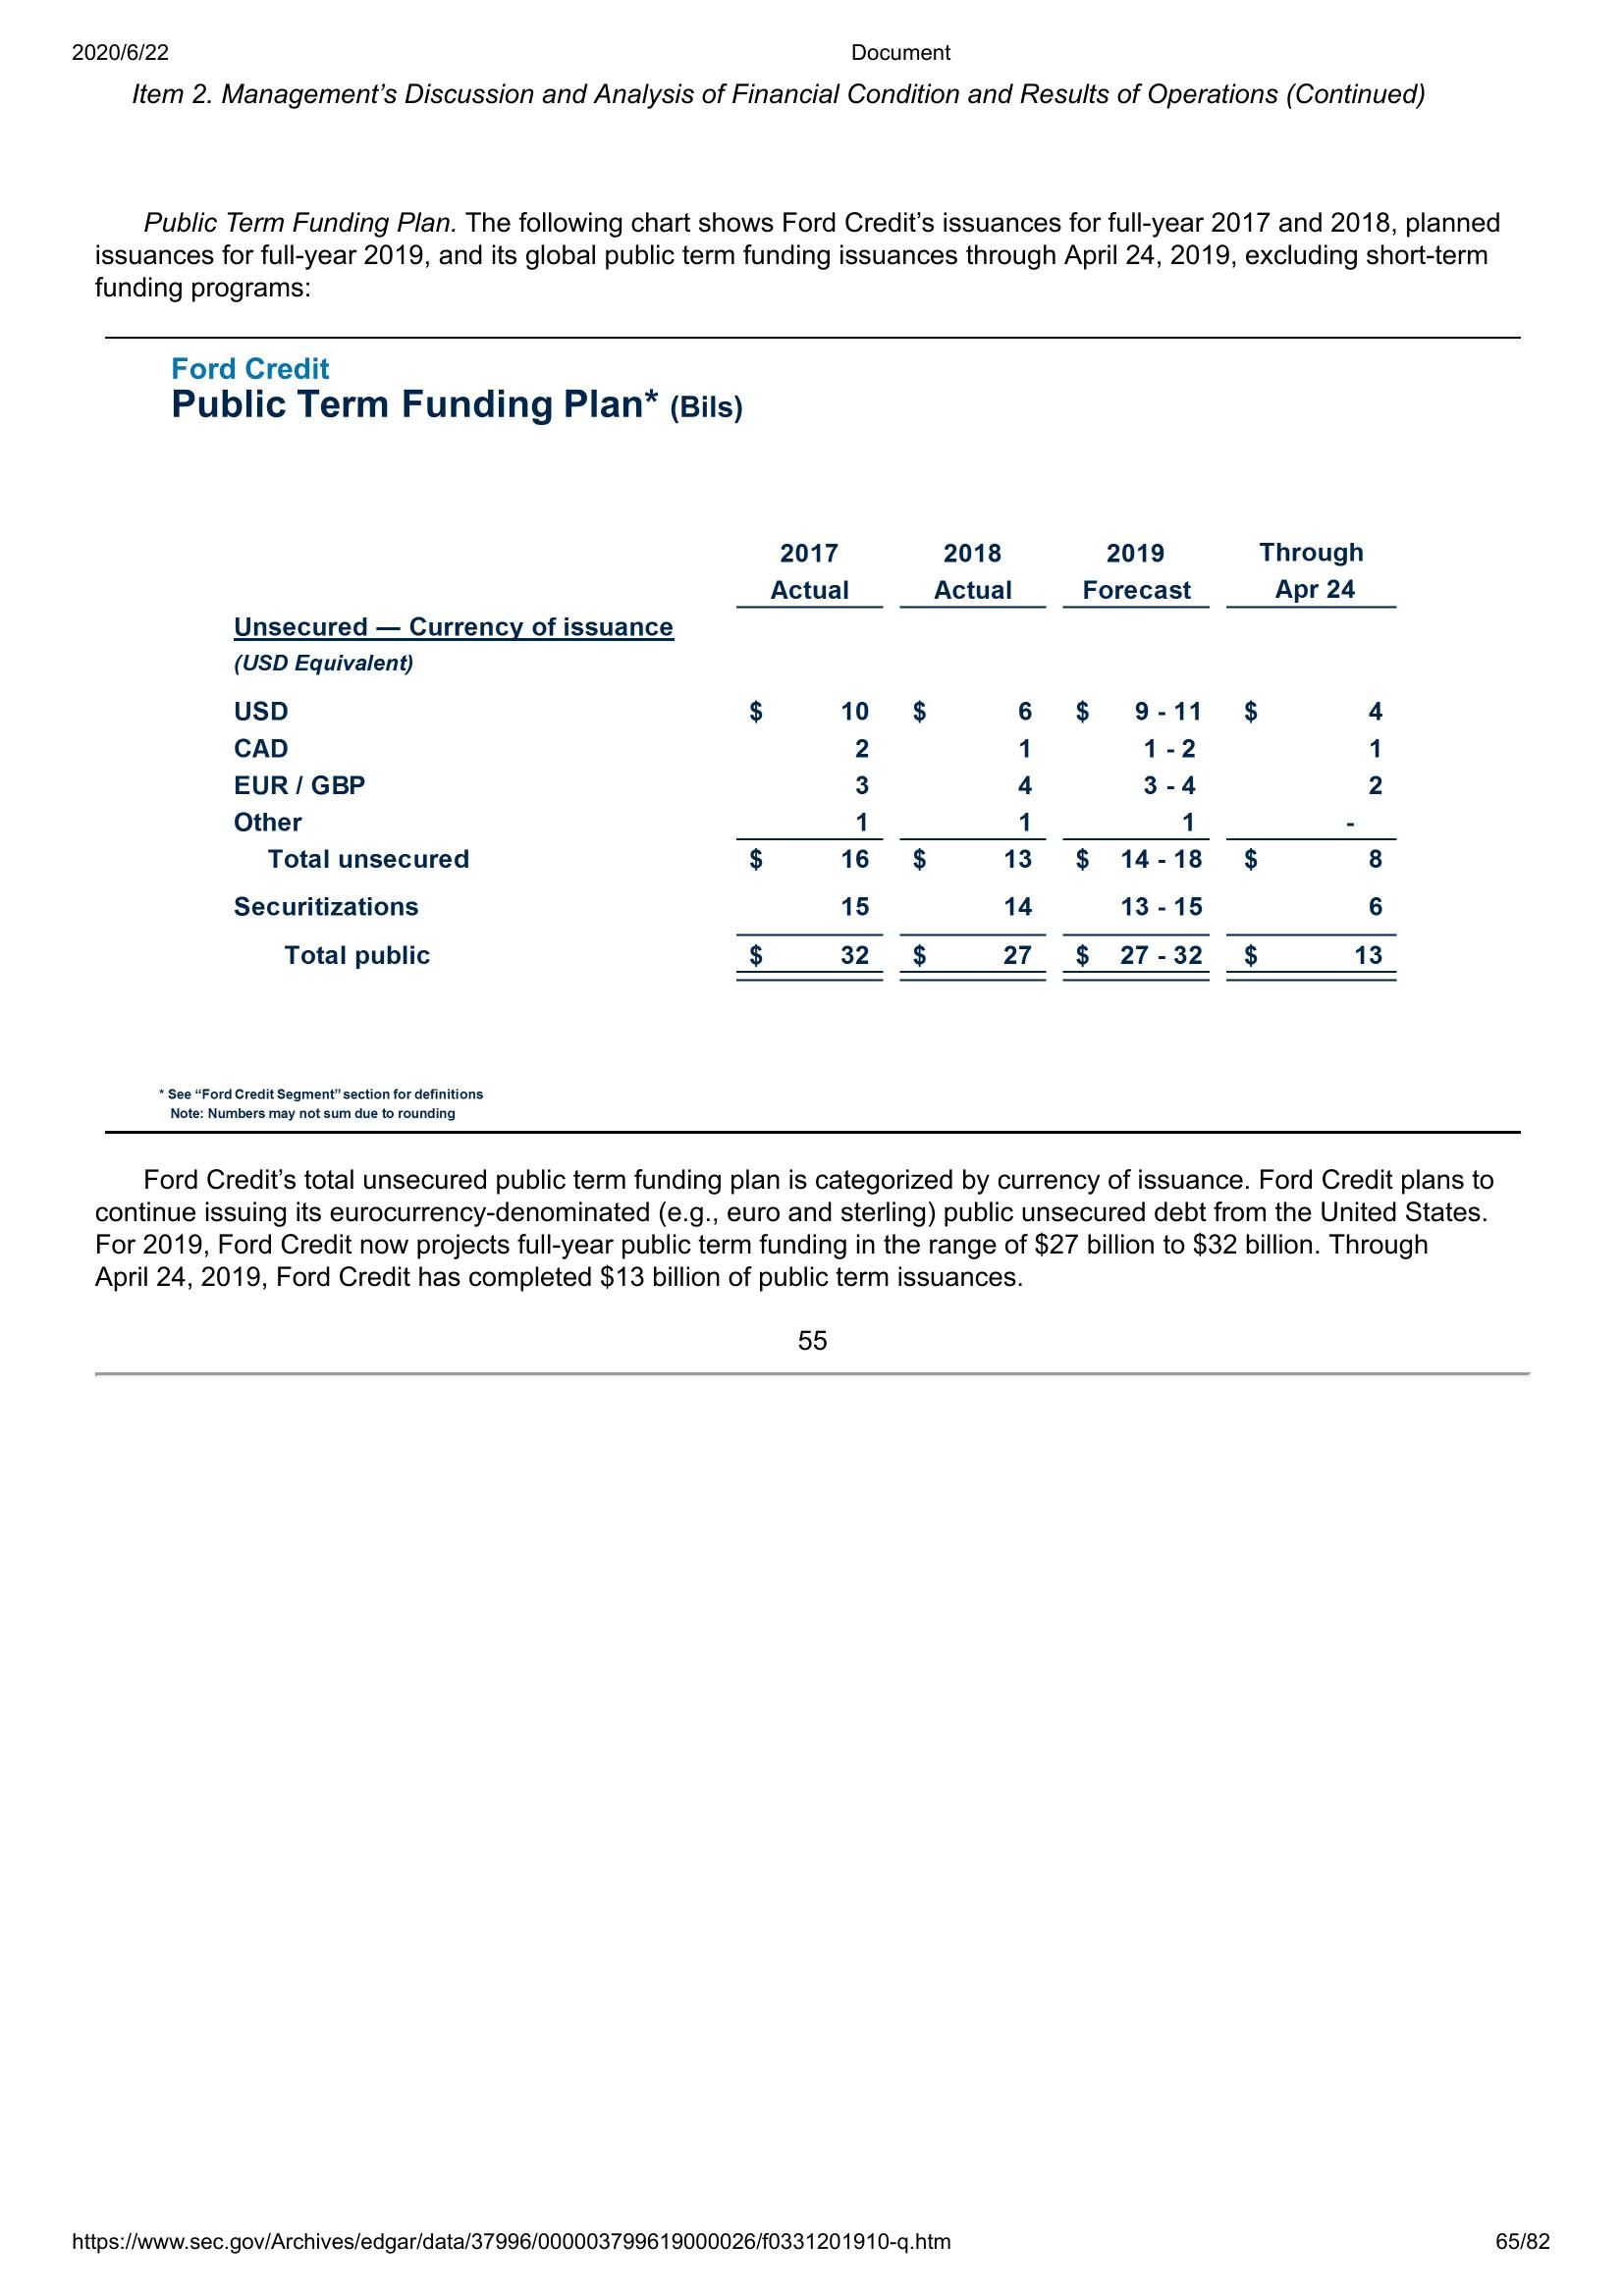table: (228, 537, 1402, 988)
